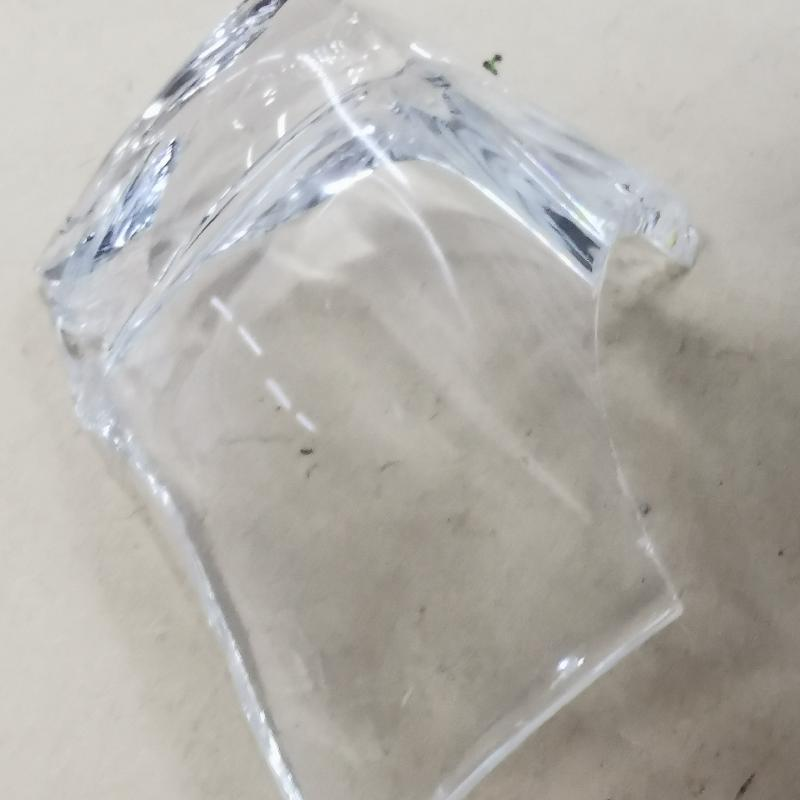glass: (37, 1, 697, 799)
